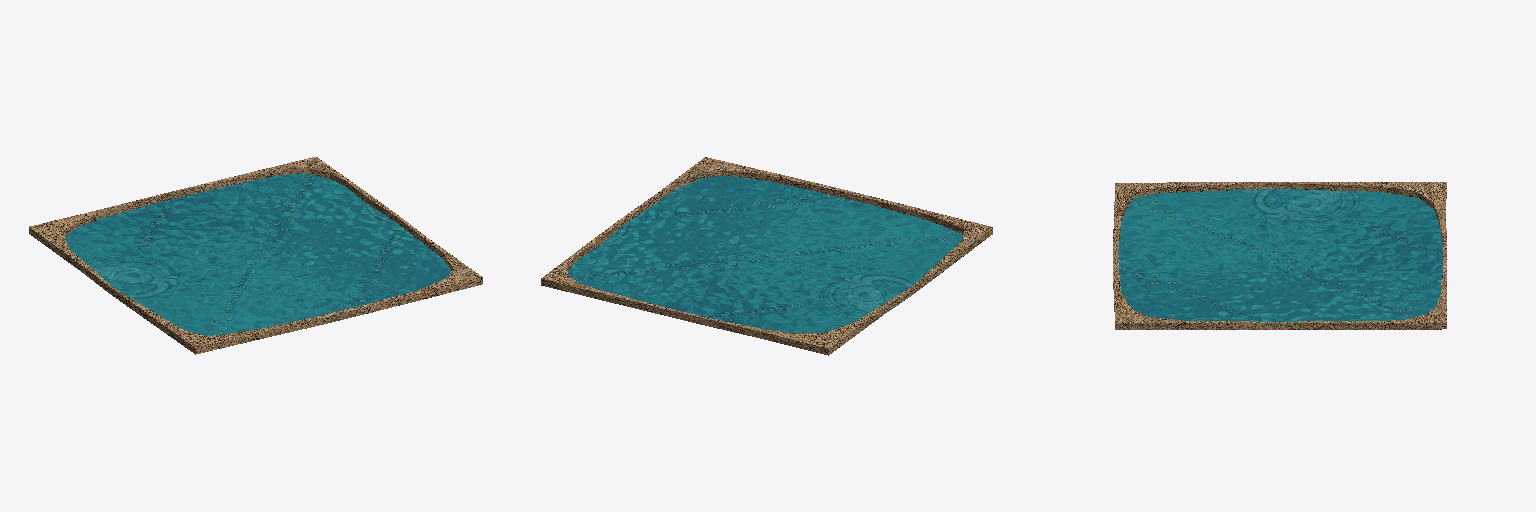
3 renders of one model, left to right at view 1: azimuth 30°, elevation 25°; view 2: azimuth 150°, elevation 25°; view 3: azimuth 270°, elevation 25°, orthographic.
Parts seen in each view (by area): view 1: pond; view 2: pond; view 3: pond.
Boxes of the visible parts, <box> form: pond: <box>29,157,482,354</box>; pond: <box>541,157,992,355</box>; pond: <box>1113,182,1446,329</box>.
Size of the model in its own units: 10.01 by 0.2272 by 9.98.
2 materials, 2 textured.